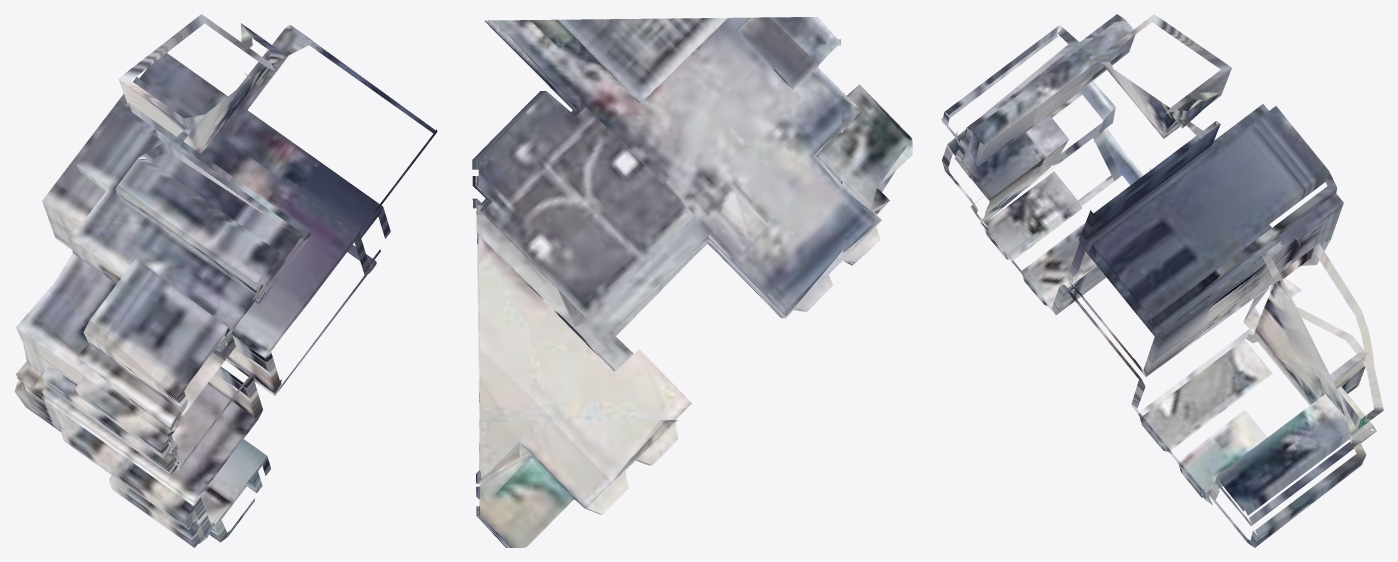
The picture shows the model from 3 angles, left to right: view 1: azimuth 30°, elevation 25°; view 2: azimuth 150°, elevation 25°; view 3: azimuth 270°, elevation 25°; orthographic projection. The views are drawn at different scales.
Size of the model in its own units: 22.14 by 27.63 by 23.93.
1 material, 1 textured.
